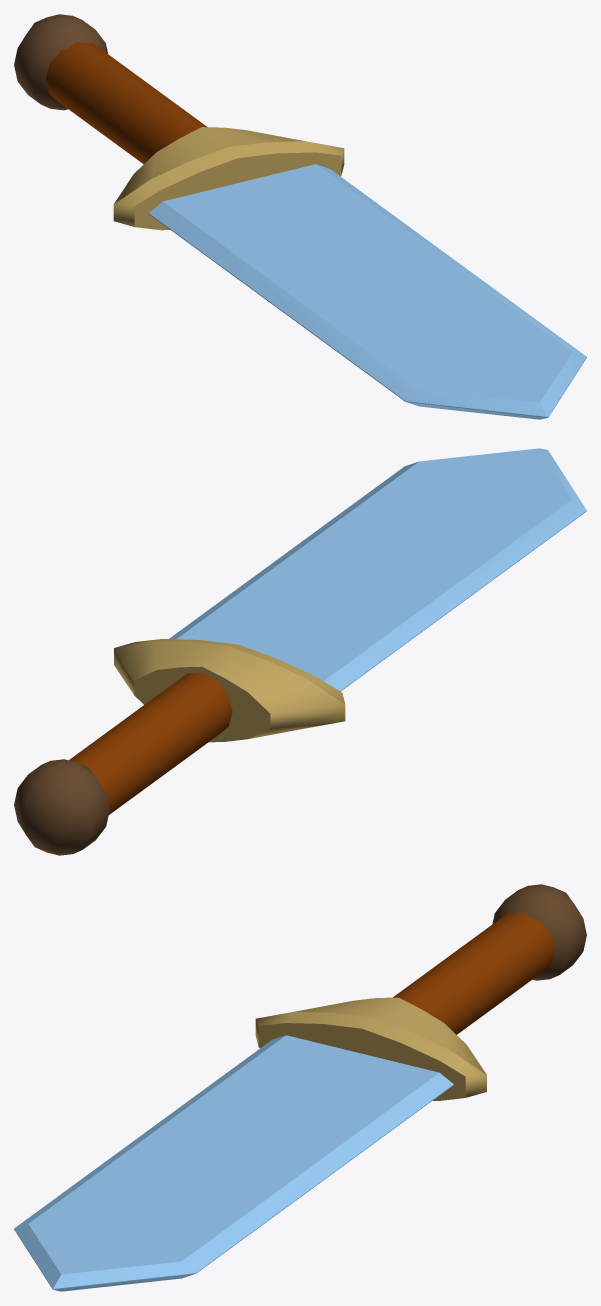
Rendered from sktDagger.FBX.
The picture shows the model from 3 angles, top to bottom: view 1: azimuth 30°, elevation 25°; view 2: azimuth 150°, elevation 25°; view 3: azimuth 330°, elevation 25°; orthographic projection.
Parts seen in each view (by area): view 1: Skt_Dagger002; view 2: Skt_Dagger002; view 3: Skt_Dagger002.
Boxes of the visible parts, <box> form: Skt_Dagger002: <box>14,14,586,419</box>; Skt_Dagger002: <box>14,448,586,855</box>; Skt_Dagger002: <box>14,884,586,1291</box>.
Size of the model in its own units: 30.59 by 11.06 by 117.
1 material, 1 textured.
